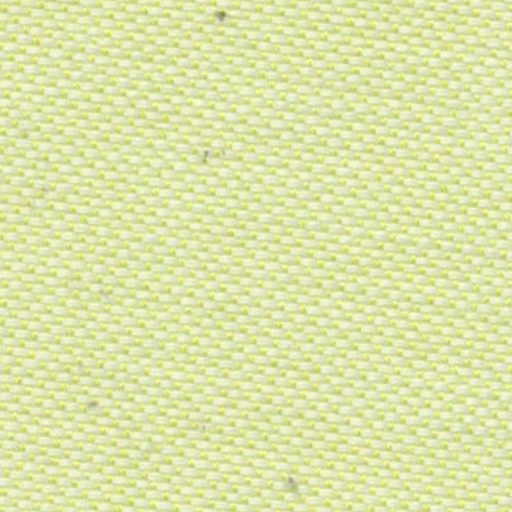WuZi: (268, 458, 320, 506), (184, 132, 246, 171), (64, 380, 116, 426), (204, 2, 236, 34)
